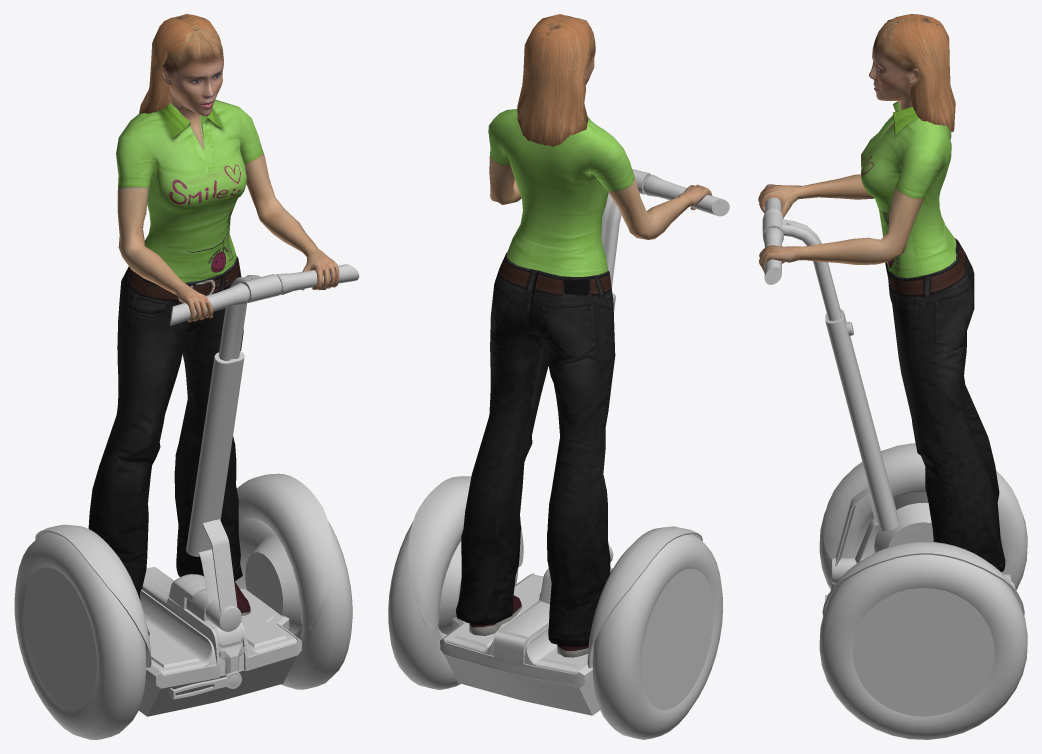
File: Gyroscooter_2_Girl_11.FBX
3 views of the same model, side by side, from view 1: azimuth 30°, elevation 25°; view 2: azimuth 150°, elevation 25°; view 3: azimuth 270°, elevation 25° (orthographic). The views are drawn at different scales.
Parts seen in each view (by area): view 1: Girl_11_LOD0, Gyroscooter_2_LOD0, Wheel_R_LOD0, Wheel_L_LOD0; view 2: Girl_11_LOD0, Gyroscooter_2_LOD0, Wheel_R_LOD0, Wheel_L_LOD0; view 3: Girl_11_LOD0, Wheel_L_LOD0, Gyroscooter_2_LOD0, Wheel_R_LOD0.
Part boxes in pixels (left/top/right/bottom): Girl_11_LOD0: left=88, top=14, right=339, bottom=636; Gyroscooter_2_LOD0: left=35, top=264, right=359, bottom=716; Wheel_R_LOD0: left=14, top=532, right=146, bottom=739; Wheel_L_LOD0: left=280, top=521, right=352, bottom=689; Girl_11_LOD0: left=456, top=14, right=712, bottom=657; Gyroscooter_2_LOD0: left=408, top=169, right=729, bottom=715; Wheel_R_LOD0: left=592, top=534, right=722, bottom=739; Wheel_L_LOD0: left=388, top=522, right=518, bottom=689; Girl_11_LOD0: left=758, top=14, right=1005, bottom=571; Wheel_L_LOD0: left=819, top=554, right=1027, bottom=739; Gyroscooter_2_LOD0: left=762, top=183, right=1024, bottom=615; Wheel_R_LOD0: left=819, top=511, right=1027, bottom=590.
Size of what is drawn, in the model's own units: 0.7394 by 1.95 by 0.7123.
